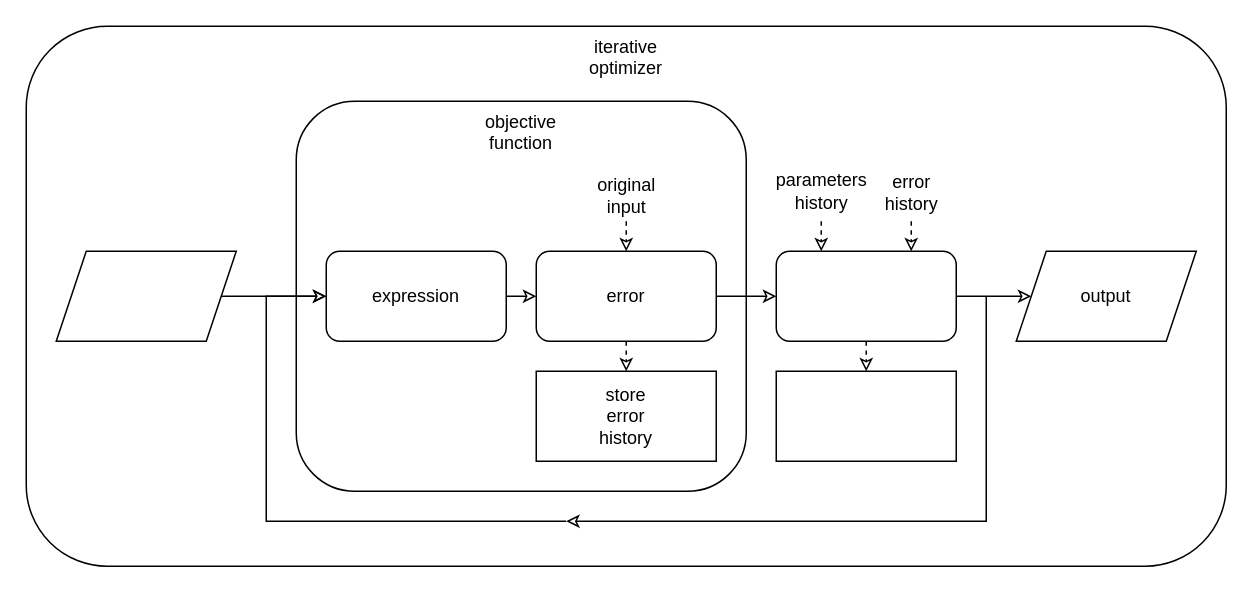
This 1253x593 diagram has some shape labels left out. Here are the shapes that lost their labels. From the top down, the centre of each, then its label:
At pixel 145 295: "input".
At pixel 865 295: "predictor".
At pixel 865 415: "store parameters history".
